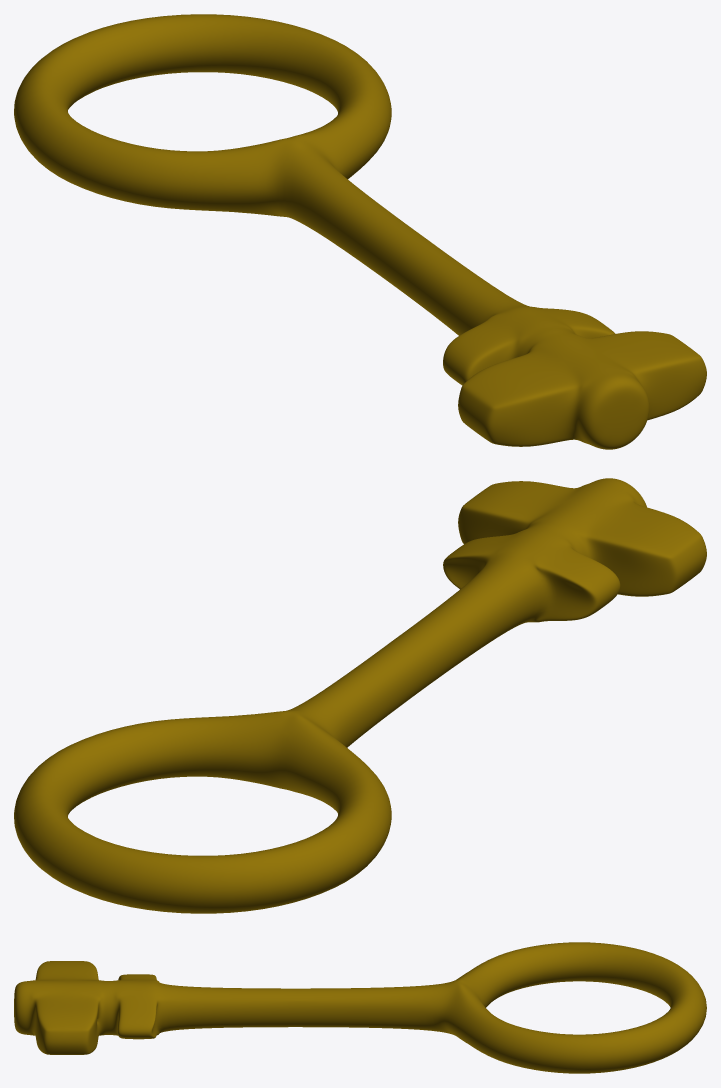
File: Key.fbx
The picture shows the model from 3 angles, top to bottom: view 1: azimuth 30°, elevation 25°; view 2: azimuth 150°, elevation 25°; view 3: azimuth 270°, elevation 25°; orthographic projection. The views are drawn at different scales.
Parts seen in each view (by area): view 1: Key; view 2: Key; view 3: Key.
Boxes of the visible parts, x1=… form: Key: x1=14, y1=14, x2=706, y2=449; Key: x1=14, y1=478, x2=706, y2=913; Key: x1=14, y1=942, x2=706, y2=1073.
Size of the model in its own units: 211 by 47.31 by 572.
